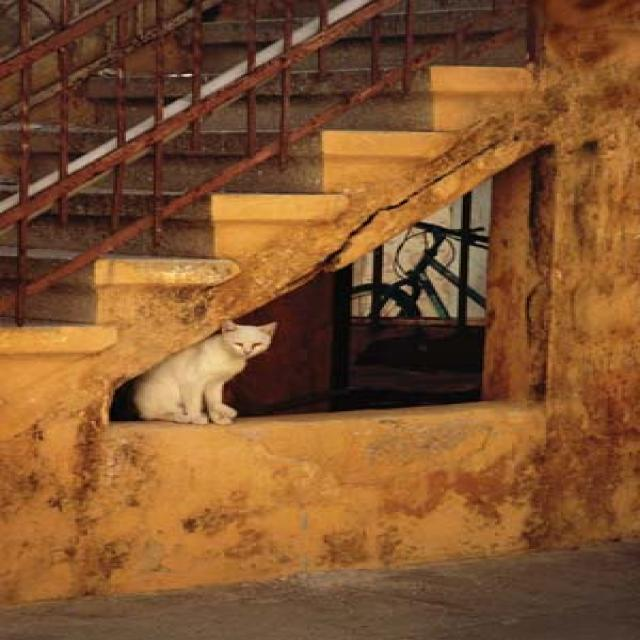cat: (133, 320, 275, 424)
